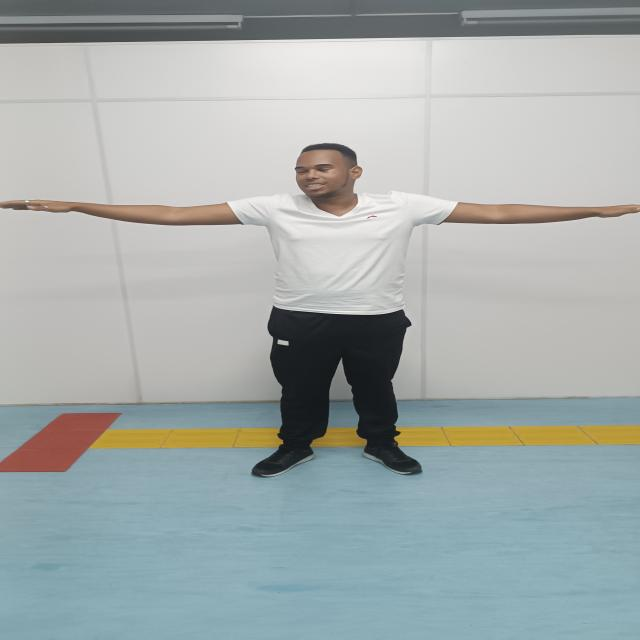takeoff: (0, 142, 640, 476)
